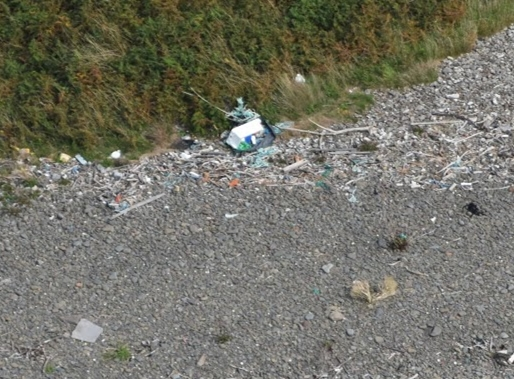scattered_barrel: (15, 131, 130, 180)
together_barrel: (168, 146, 369, 191), (213, 96, 282, 170)
white_in_green: (276, 56, 321, 100)
